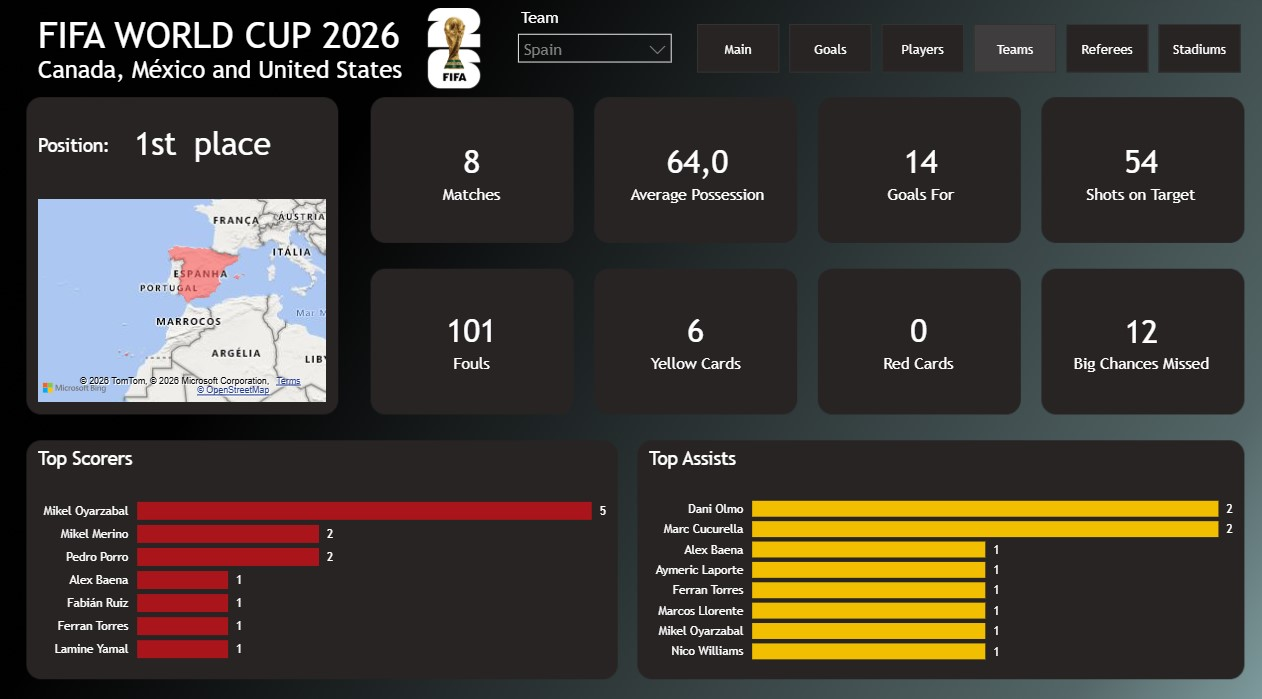

What the dashboard file says about the page in this screenshot:
{"tool":"powerbi","page":{"name":"Teams","canvas":[1280,720],"ordinal":3},"visuals":[{"type":"slicer","fields":{"Values":["teamstats.TEAM"]},"box":[515.8,7,174.6,70.8],"z":0},{"type":"card","fields":{"Values":["Medidas.Big Chances Missed"]},"box":[1058.5,277.3,192.3,139.4],"z":1000},{"type":"card","fields":{"Values":["Medidas.Fouls"]},"box":[380.2,277,198.5,137.6],"z":2000},{"type":"card","fields":{"Values":["Medidas.Shots on Target"]},"box":[1051.5,106.7,205.5,138.7],"z":3000},{"type":"card","fields":{"Values":["Medidas.Average Possession"]},"box":[607.6,106.7,198.5,138.5],"z":4000},{"type":"card","fields":{"Values":["Medidas.goals pro"]},"box":[830.1,106.7,202.9,137.6],"z":5000},{"type":"card","fields":{"Values":["Medidas.Red Cards"]},"box":[830.1,277,198.5,137.6],"z":6000},{"type":"card","fields":{"Values":["Medidas.Yellow Cards"]},"box":[603.4,277,202.9,137.6],"z":7000},{"type":"filledMap","fields":{"Category":["teamstats.TEAM"]},"box":[37.1,199.8,299.7,215.5],"z":8000},{"type":"card","fields":{"Values":["Min(Tabela2.FinalPosition)"]},"box":[93.5,100.6,134.1,95.3],"z":9000},{"type":"textbox","box":[37.1,134.1,95.3,51.2],"z":10000},{"type":"textbox","box":[195,125.3,134.1,50.3],"z":11000},{"type":"clusteredBarChart","title":"Top Scorers","fields":{"Category":["playersstats.PLAYER"],"Y":["Sum(playersstats.GOALS)"]},"box":[37.1,454.3,583.1,227.6],"z":12000},{"type":"clusteredBarChart","title":"Top Assists","fields":{"Category":["playersstats.PLAYER"],"Y":["Sum(playersstats.ASSISTS)"]},"box":[652.8,454.3,599,227.6],"z":13000},{"type":"card","fields":{"Values":["Medidas.Matches"]},"box":[380.1,106.7,198.5,137.7],"z":14000},{"type":"image","box":[404.1,12,114.7,80.8],"z":15000},{"type":"textbox","box":[36.9,12,400.1,95.8],"z":16000},{"type":"pageNavigator","box":[706.3,27.9,550.7,49.9],"z":17000}]}

Visuals, with their boxes in screenshot pixels (x1, y1, x2, y2), scaled from the page's 1280x720 canvas onto the 1262x699 screenshot:
slicer - teamstats.TEAM: (x1=509, y1=7, x2=681, y2=76)
card - Medidas.Big Chances Missed: (x1=1044, y1=269, x2=1233, y2=405)
card - Medidas.Fouls: (x1=375, y1=269, x2=571, y2=403)
card - Medidas.Shots on Target: (x1=1037, y1=104, x2=1239, y2=238)
card - Medidas.Average Possession: (x1=599, y1=104, x2=795, y2=238)
card - Medidas.goals pro: (x1=818, y1=104, x2=1018, y2=237)
card - Medidas.Red Cards: (x1=818, y1=269, x2=1014, y2=403)
card - Medidas.Yellow Cards: (x1=595, y1=269, x2=795, y2=403)
filledMap - teamstats.TEAM: (x1=37, y1=194, x2=332, y2=403)
card - Min(Tabela2.FinalPosition): (x1=92, y1=98, x2=224, y2=190)
textbox: (x1=37, y1=130, x2=131, y2=180)
textbox: (x1=192, y1=122, x2=324, y2=170)
"Top Scorers" clusteredBarChart: (x1=37, y1=441, x2=611, y2=662)
"Top Assists" clusteredBarChart: (x1=644, y1=441, x2=1234, y2=662)
card - Medidas.Matches: (x1=375, y1=104, x2=570, y2=237)
image: (x1=398, y1=12, x2=512, y2=90)
textbox: (x1=36, y1=12, x2=431, y2=105)
pageNavigator: (x1=696, y1=27, x2=1239, y2=76)
